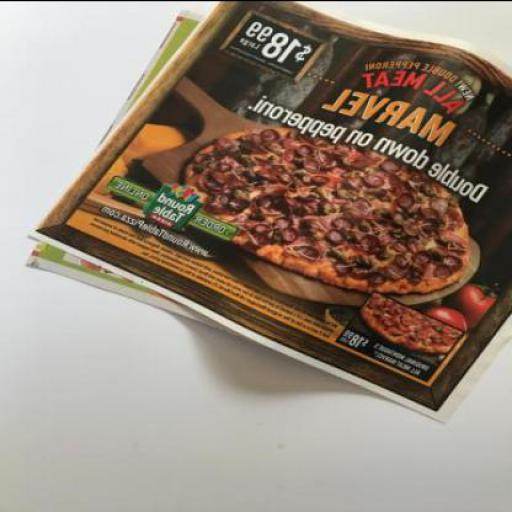paper: (27, 1, 511, 422), (26, 6, 375, 337)
